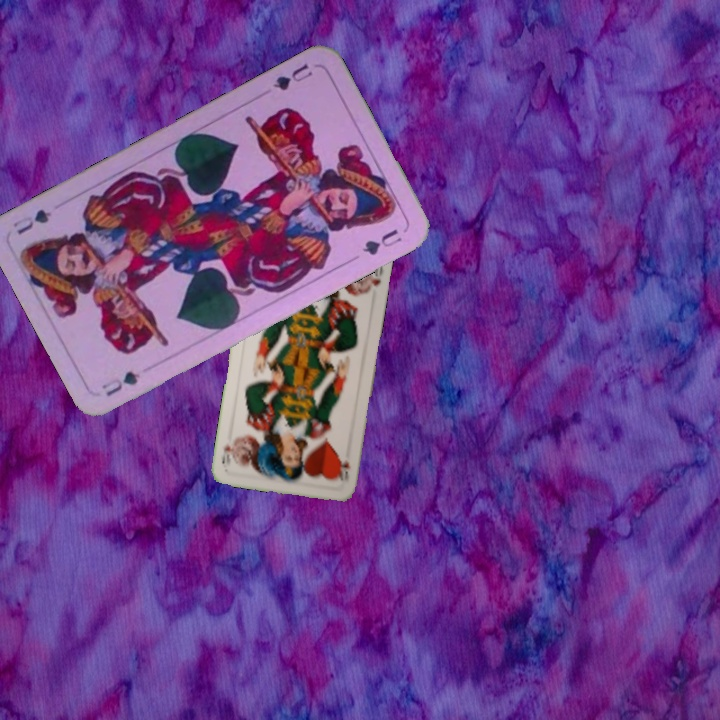GU: (269, 59, 315, 94), (97, 366, 143, 400)
HO: (335, 455, 353, 484)
